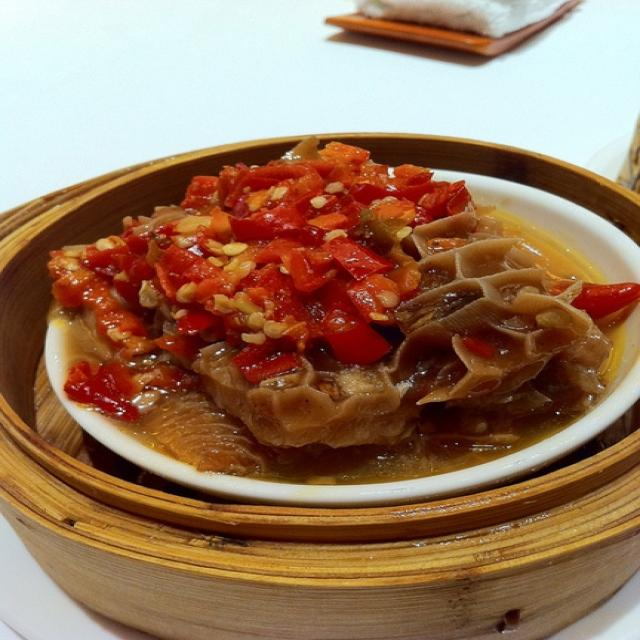汤锅炖物: (11, 106, 630, 592)
